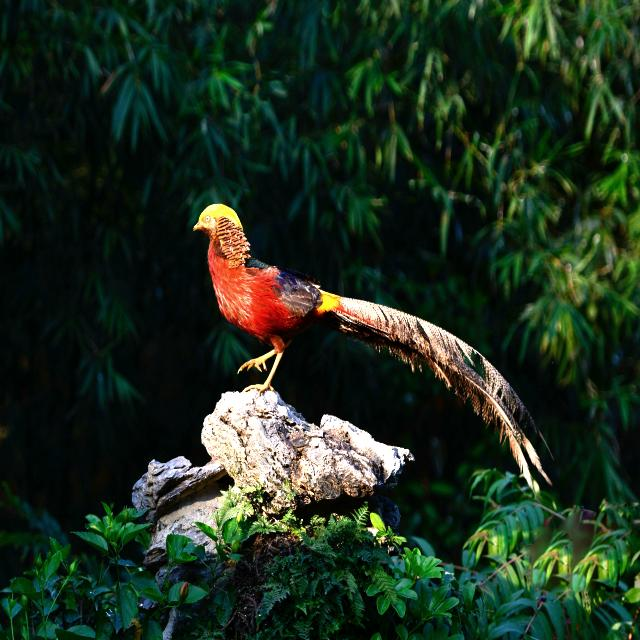Chrysolophus pictus feather: (316, 293, 549, 481)
